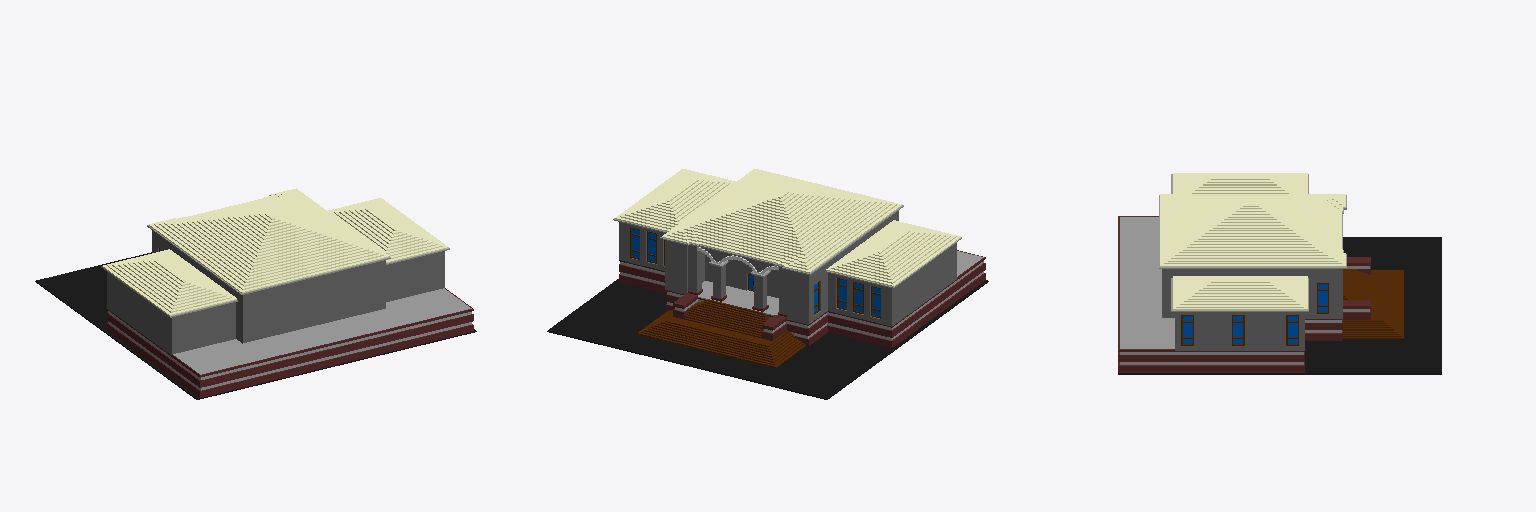
3 views of the same model, side by side, from view 1: azimuth 30°, elevation 25°; view 2: azimuth 150°, elevation 25°; view 3: azimuth 270°, elevation 25° (orthographic).
Visible parts, largest first — view 1: object 1; view 2: object 1; view 3: object 1.
Boxes of the visible parts, x1=… form: object 1: x1=35, y1=188, x2=476, y2=399; object 1: x1=547, y1=169, x2=988, y2=399; object 1: x1=1118, y1=173, x2=1441, y2=374.
Size of the model in its own units: 25.6 by 8.9 by 25.6.
Materials: 1 (1 with a texture image).